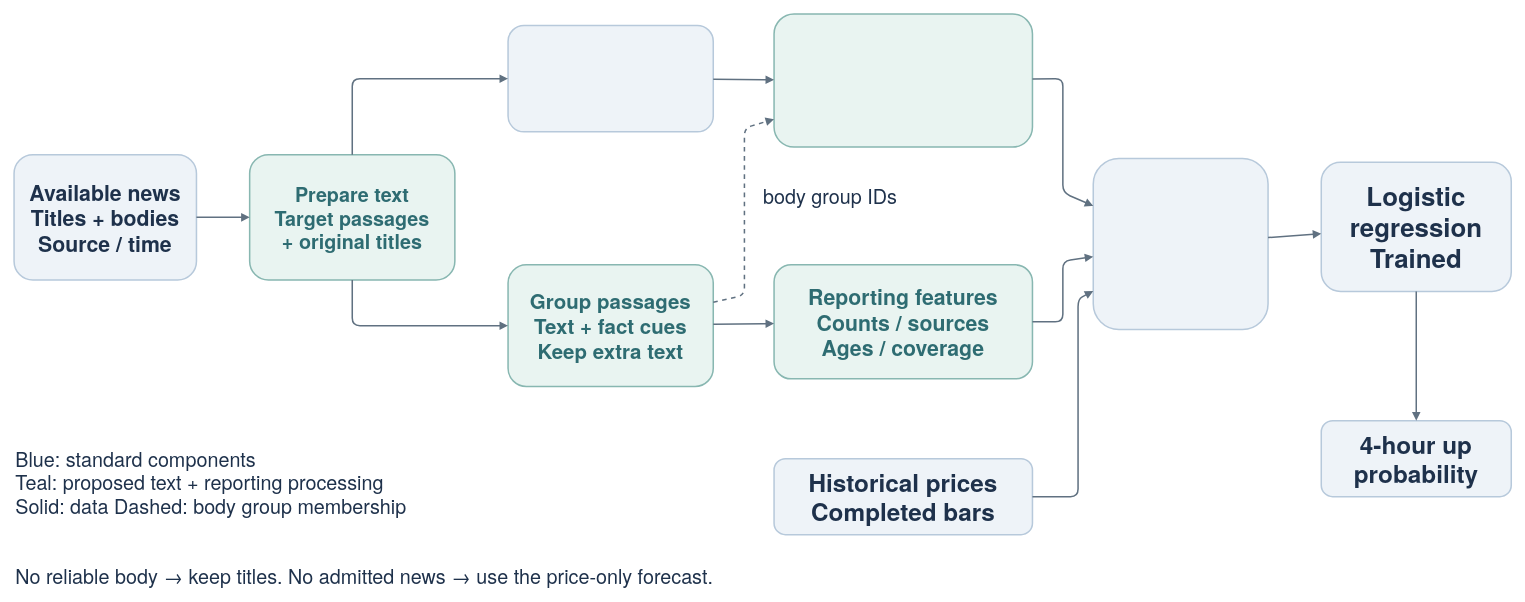
This 1525x602 diagram has some shape labels left out. The shapes that lost their labels are listed below. From the top down, each one's centre as x and y in pixels, then its label:
pixel 610 78: FinBERT Frozen encoder
pixel 903 80: Body: two-level mean Within, then across Titles: own average
pixel 1180 243: Combine Title + body Reporting Prices
